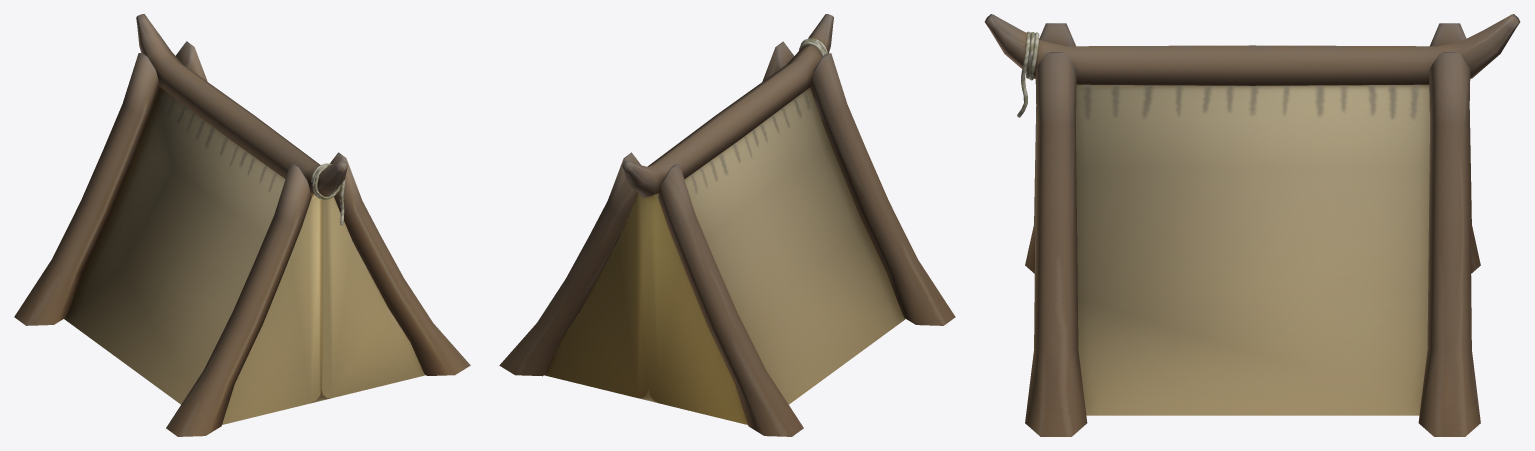
Rendered from Tent.fbx.
The picture shows the model from 3 angles, left to right: view 1: azimuth 30°, elevation 25°; view 2: azimuth 150°, elevation 25°; view 3: azimuth 270°, elevation 25°; orthographic projection. The views are drawn at different scales.
Parts seen in each view (by area): view 1: Cylinder.009; view 2: Cylinder.009; view 3: Cylinder.009.
Part boxes in pixels (bbox=[...]): Cylinder.009: bbox=[14, 14, 470, 436]; Cylinder.009: bbox=[499, 14, 955, 436]; Cylinder.009: bbox=[984, 14, 1520, 436].
Size of the model in its own units: 395 by 329 by 482.
1 material, 1 textured.
